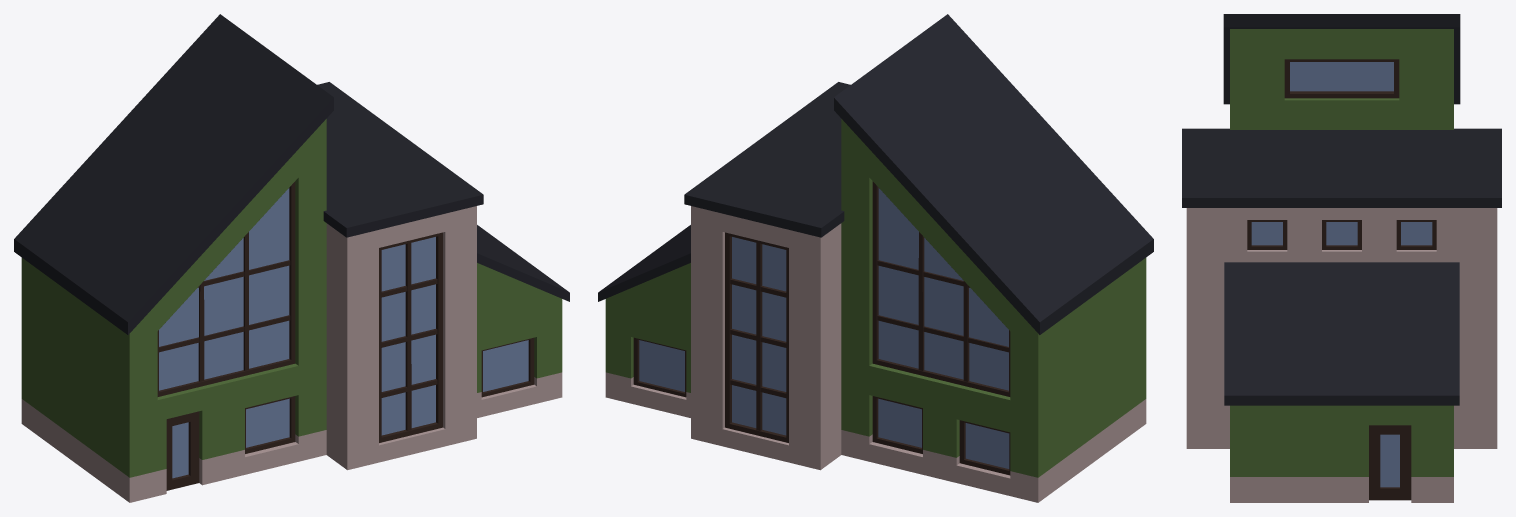
Rendered from ModernHouse_05.fbx.
The picture shows the model from 3 angles, left to right: view 1: azimuth 30°, elevation 25°; view 2: azimuth 150°, elevation 25°; view 3: azimuth 270°, elevation 25°; orthographic projection. The views are drawn at different scales.
Parts seen in each view (by area): view 1: ModernHouse_05; view 2: ModernHouse_05; view 3: ModernHouse_05.
Boxes of the visible parts, x1,y1,x2,y2 form: ModernHouse_05: (14,14,569,502); ModernHouse_05: (598,14,1153,502); ModernHouse_05: (1182,14,1501,502).
Bounding box in the file's own units: 12.6 × 9.77 × 7.61.
